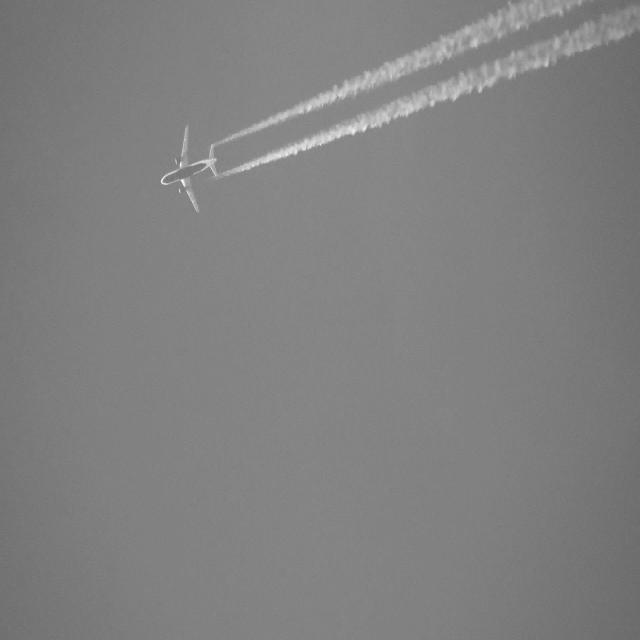aeroplane: (158, 125, 222, 216)
